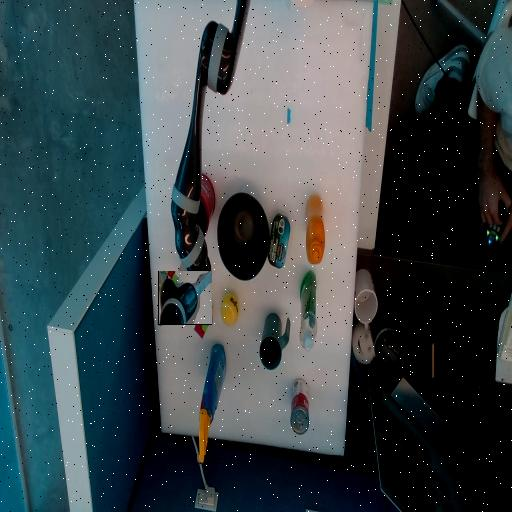bowl: (217, 210, 268, 262)
cleanser: (300, 271, 316, 350)
coffee_can: (176, 174, 214, 245)
jaco: (158, 271, 212, 325)
meat_can: (267, 214, 289, 268)
mug: (259, 313, 289, 369)
mustard_bottle: (305, 220, 324, 239)
rubik: (190, 305, 212, 327)
soup_can: (290, 397, 308, 415)
tennis_ball: (221, 294, 238, 324)
windex: (198, 345, 225, 463)
wooden_block: (171, 258, 195, 304)
workspace: (135, 3, 372, 455)
